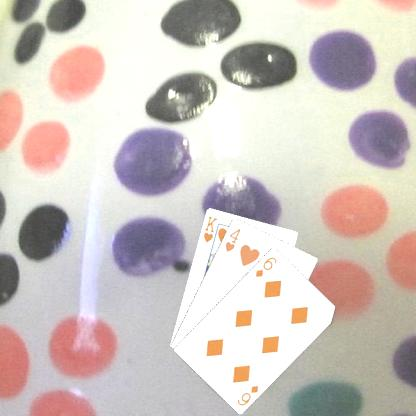4H: (222, 226, 242, 254)
6D: (234, 382, 260, 407), (253, 254, 278, 278)
KH: (200, 213, 219, 244)
